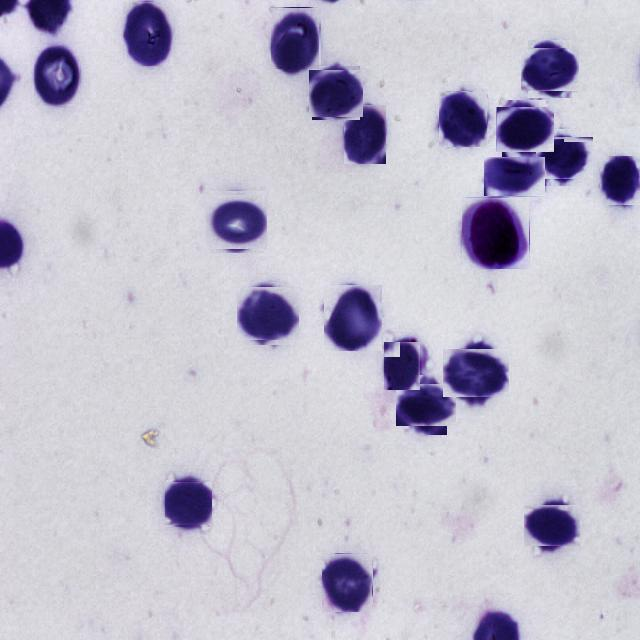leukocyte: (462, 197, 530, 269)
red blood cell: (324, 285, 382, 351), (208, 193, 266, 251), (446, 344, 504, 402), (240, 284, 298, 342), (123, 2, 173, 66), (270, 7, 320, 69), (322, 553, 373, 612), (34, 45, 80, 106), (439, 91, 488, 147), (499, 103, 551, 155), (310, 68, 362, 119), (399, 380, 452, 430), (524, 44, 576, 94), (540, 132, 590, 182), (344, 105, 386, 164), (528, 500, 576, 550), (484, 157, 545, 196), (165, 481, 211, 526), (600, 156, 640, 205), (384, 341, 421, 390)
